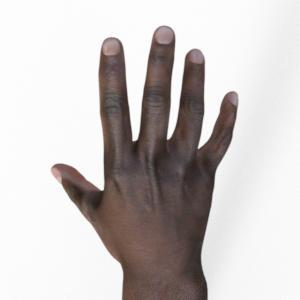paper: (52, 26, 237, 300)
